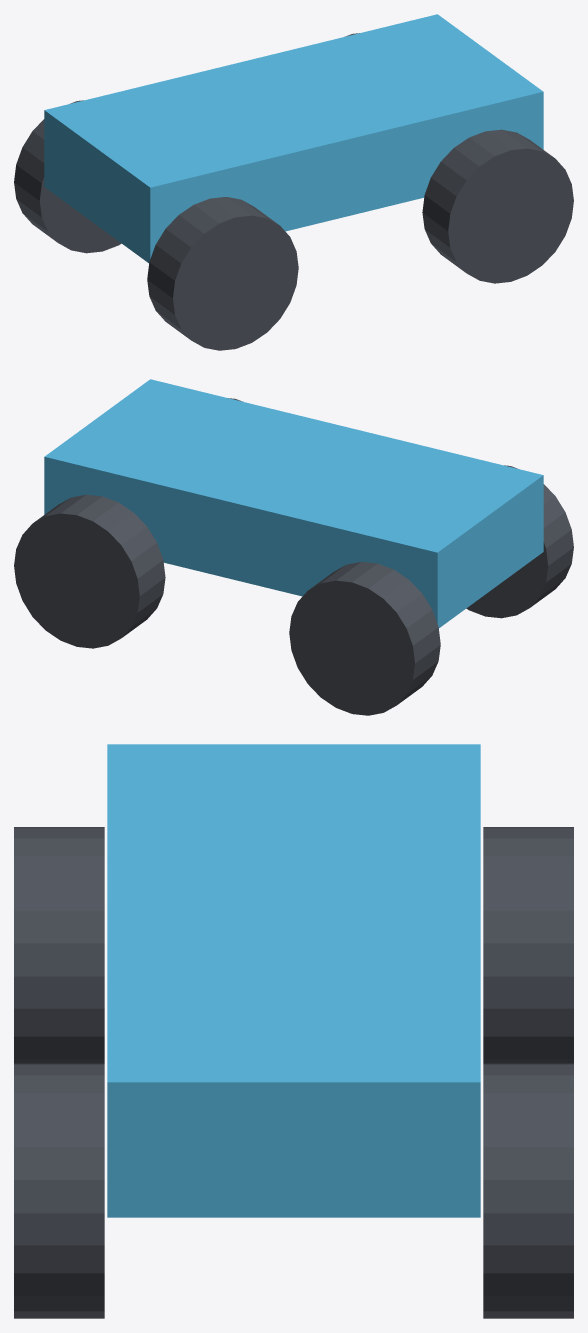
File: ConstraintMotor.glb
3 renders of one model, top to bottom at view 1: azimuth 30°, elevation 25°; view 2: azimuth 150°, elevation 25°; view 3: azimuth 270°, elevation 25°, orthographic. The views are drawn at different scales.
Visible parts, largest first — view 1: MotorChassis.001, MotorWheelRightFront.001, MotorWheelRightRear.001, MotorWheelLeftRear.001; view 2: MotorChassis.001, MotorWheelLeftFront.001, MotorWheelLeftRear.001, MotorWheelRightRear.001; view 3: MotorChassis.001, MotorWheelLeftFront.001, MotorWheelRightFront.001, MotorWheelLeftRear.001, MotorWheelRightRear.001.
Part boxes in pixels (x1,y1,x2,y2): MotorChassis.001: (44, 14, 543, 263); MotorWheelRightFront.001: (422, 129, 573, 283); MotorWheelRightRear.001: (147, 197, 298, 350); MotorWheelLeftRear.001: (14, 100, 121, 253); MotorChassis.001: (44, 379, 543, 628); MotorWheelLeftFront.001: (14, 494, 165, 648); MotorWheelLeftRear.001: (289, 562, 440, 715); MotorWheelRightRear.001: (466, 465, 573, 618); MotorChassis.001: (107, 744, 480, 1217); MotorWheelLeftFront.001: (483, 1063, 573, 1318); MotorWheelRightFront.001: (14, 1063, 104, 1318); MotorWheelLeftRear.001: (483, 827, 573, 1063); MotorWheelRightRear.001: (14, 827, 104, 1063).
Size of what is drawn, in the model's own units: 3.06 by 1.14 by 2.1.
